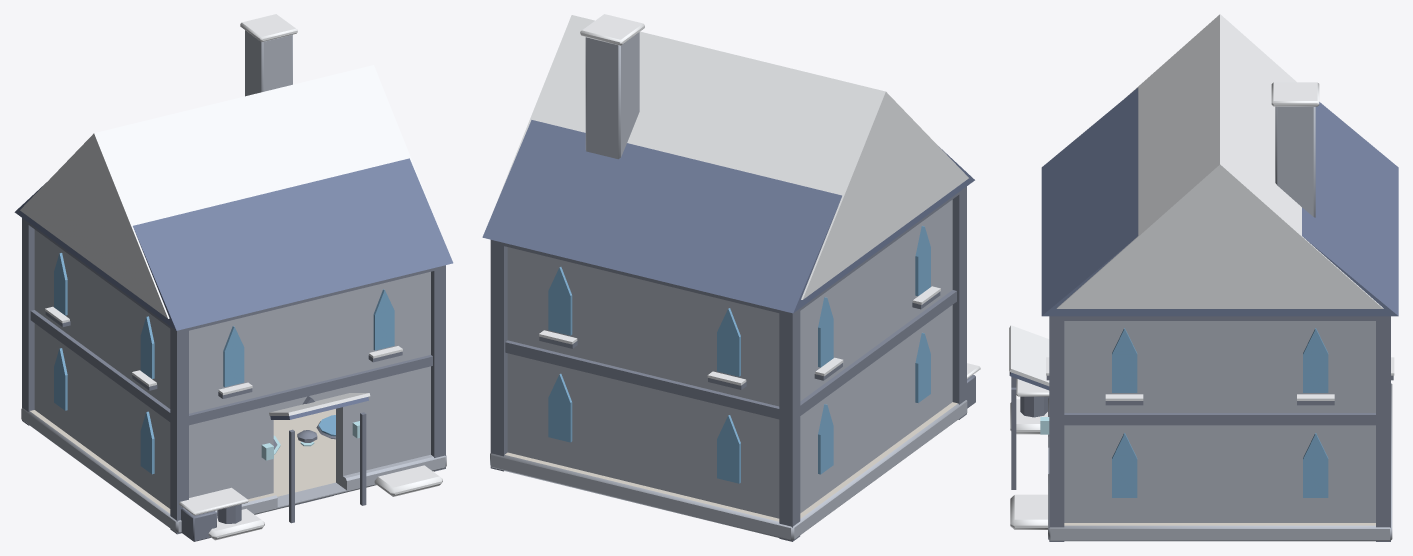
The model's file is NivalisCasa.fbx.
3 renders of one model, left to right at view 1: azimuth 30°, elevation 25°; view 2: azimuth 150°, elevation 25°; view 3: azimuth 270°, elevation 25°, orthographic. The views are drawn at different scales.
Parts seen in each view (by area): view 1: NivalisCasa_Base_Cuerpo, NivalisCasa_Base_Nieve, NivalisCasa_Base_Techo, NivalisCasa_Base_Metal, NivalisCasa_Base_Cristal, NivalisCasa_Base_Forro; view 2: NivalisCasa_Base_Cuerpo, NivalisCasa_Base_Nieve, NivalisCasa_Base_Techo, NivalisCasa_Base_Metal, NivalisCasa_Base_Cristal, NivalisCasa_Base_Forro; view 3: NivalisCasa_Base_Cuerpo, NivalisCasa_Base_Nieve, NivalisCasa_Base_Techo, NivalisCasa_Base_Metal, NivalisCasa_Base_Cristal, NivalisCasa_Base_Forro.
Part boxes in pixels (<box>): NivalisCasa_Base_Cuerpo: <box>21,30,446,532</box>; NivalisCasa_Base_Nieve: <box>20,14,442,540</box>; NivalisCasa_Base_Techo: <box>14,158,453,419</box>; NivalisCasa_Base_Metal: <box>22,218,445,541</box>; NivalisCasa_Base_Cristal: <box>54,253,394,474</box>; NivalisCasa_Base_Forro: <box>30,409,335,513</box>; NivalisCasa_Base_Cuerpo: <box>490,32,967,540</box>; NivalisCasa_Base_Nieve: <box>495,14,980,385</box>; NivalisCasa_Base_Techo: <box>482,120,974,313</box>; NivalisCasa_Base_Metal: <box>490,186,975,541</box>; NivalisCasa_Base_Cristal: <box>548,226,930,483</box>; NivalisCasa_Base_Forro: <box>505,402,957,521</box>; NivalisCasa_Base_Cuerpo: <box>1048,106,1392,541</box>; NivalisCasa_Base_Nieve: <box>1009,14,1394,529</box>; NivalisCasa_Base_Techo: <box>1009,87,1398,390</box>; NivalisCasa_Base_Metal: <box>1011,316,1393,541</box>; NivalisCasa_Base_Cristal: <box>1112,328,1328,497</box>; NivalisCasa_Base_Forro: <box>1064,523,1375,525</box>.
Size of the model in its own units: 2830 by 3645 by 3097.
